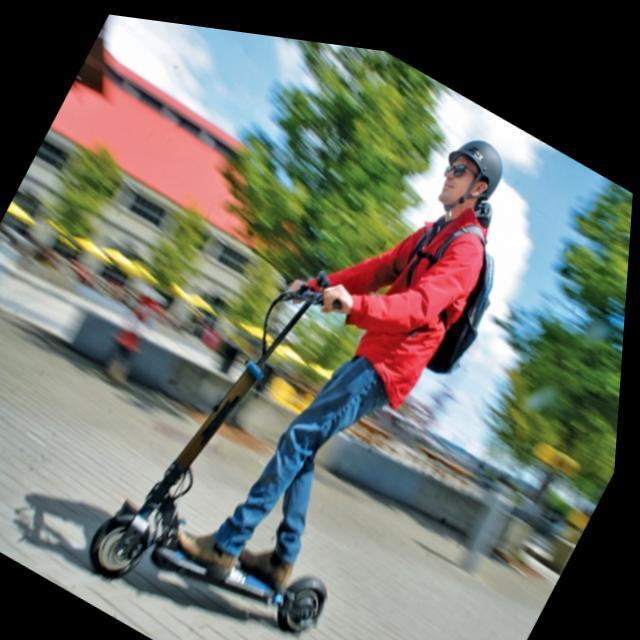Helmet: (432, 134, 509, 222)
